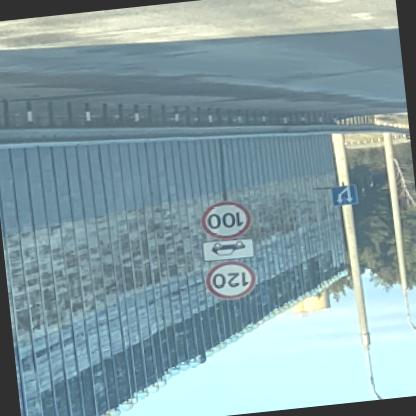speedlimit: (202, 199, 256, 242), (208, 262, 260, 303)
